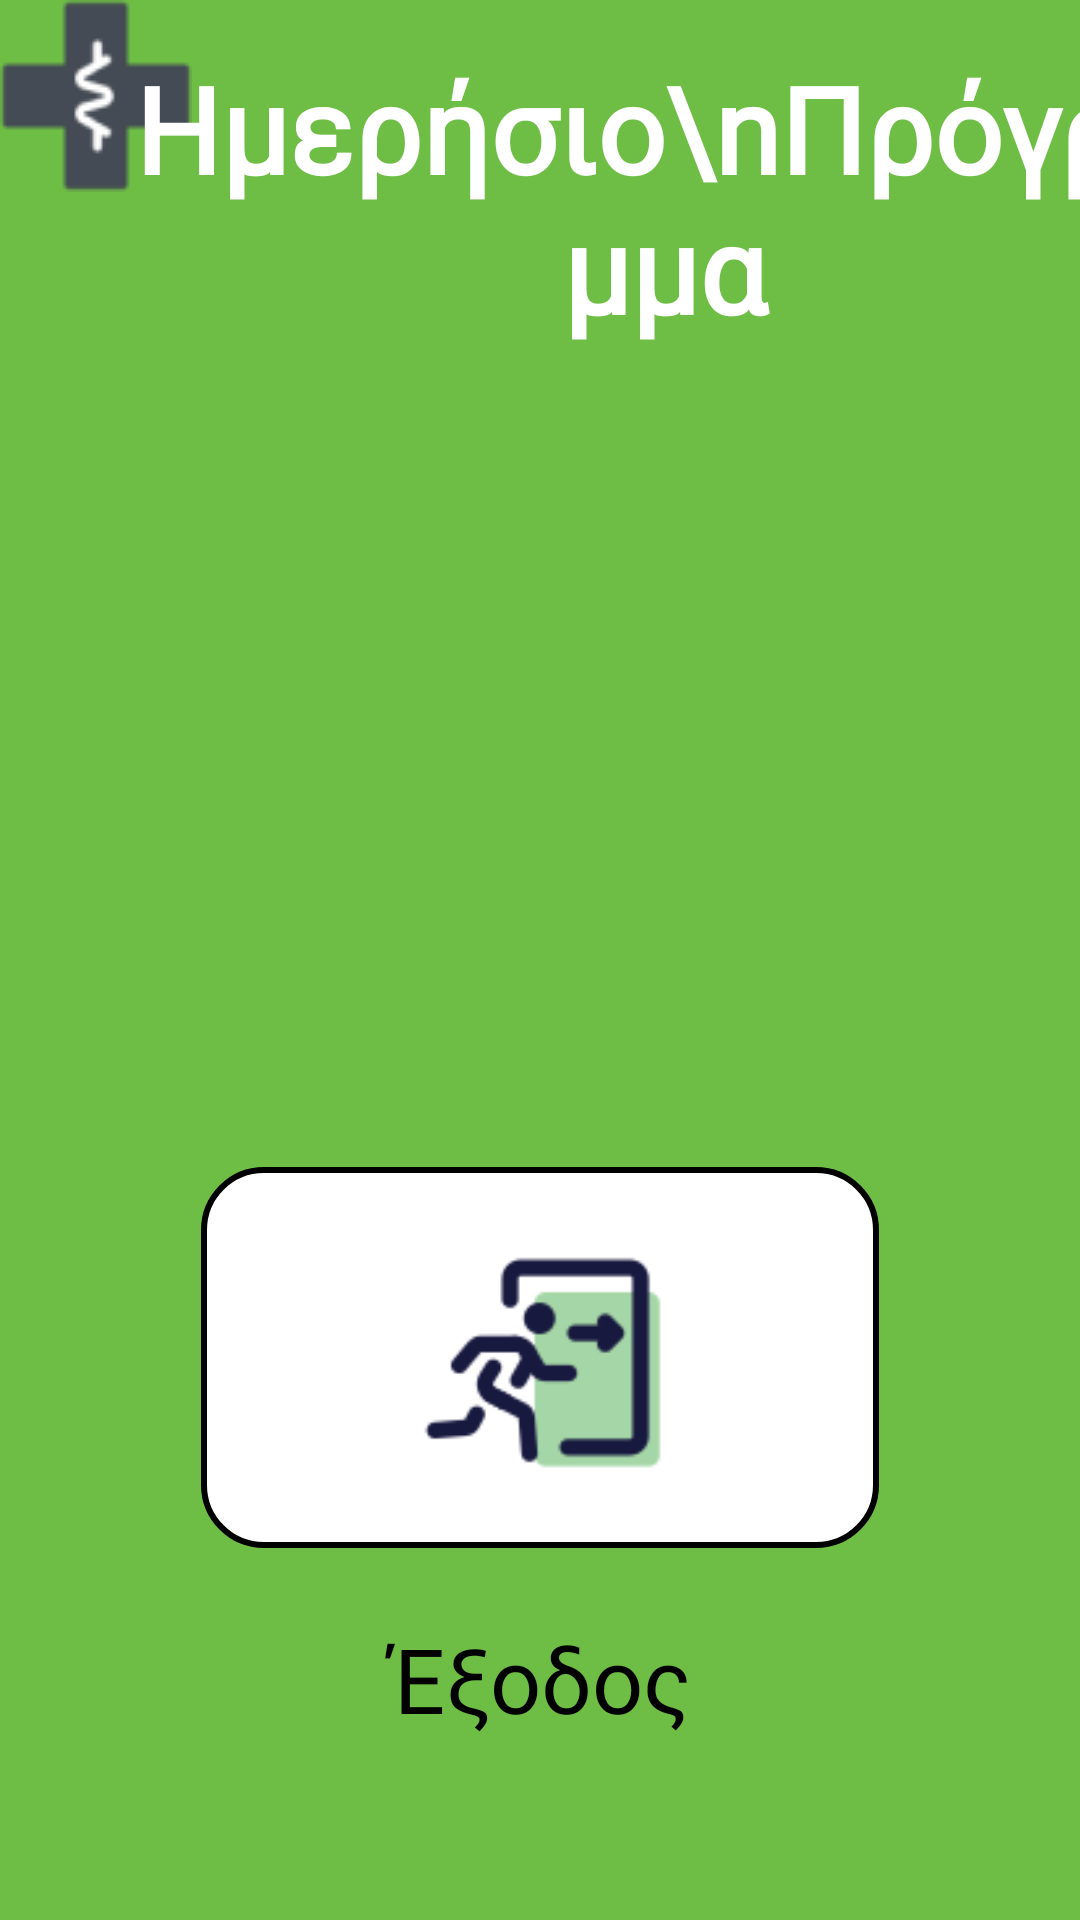

Where to tap for icons on this 1080w x 1920h app screen, as point (x, y):
hospital: point (97, 96)
